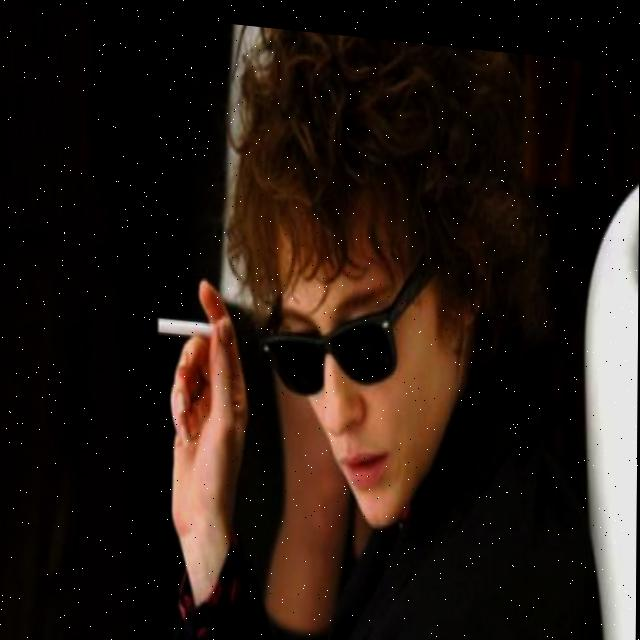cigarette: (159, 314, 222, 335)
